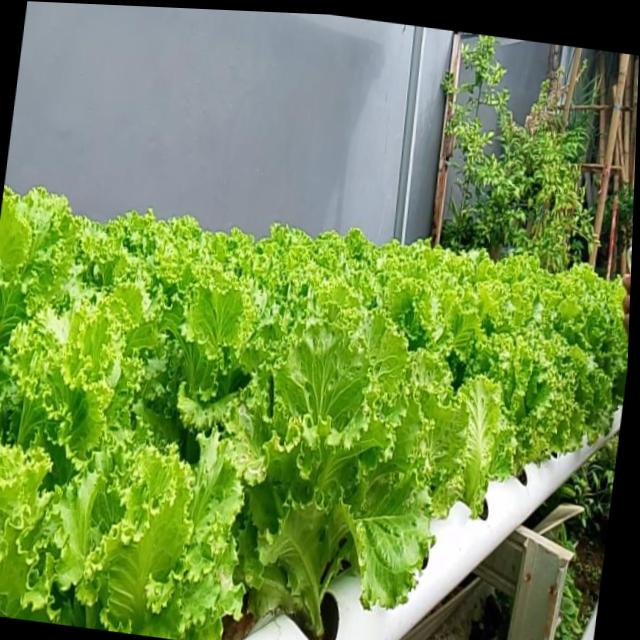Mature: (0, 192, 629, 640), (226, 324, 457, 640), (473, 329, 584, 489)
